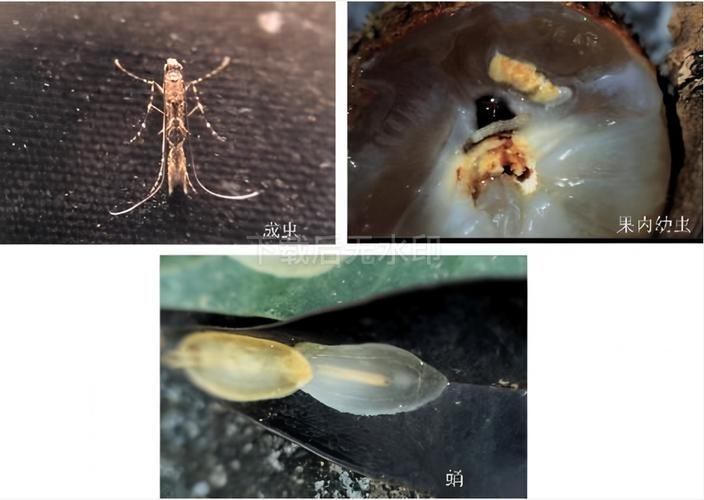Borer: (144, 56, 210, 196), (299, 348, 427, 402), (489, 42, 579, 90), (447, 109, 536, 138)
